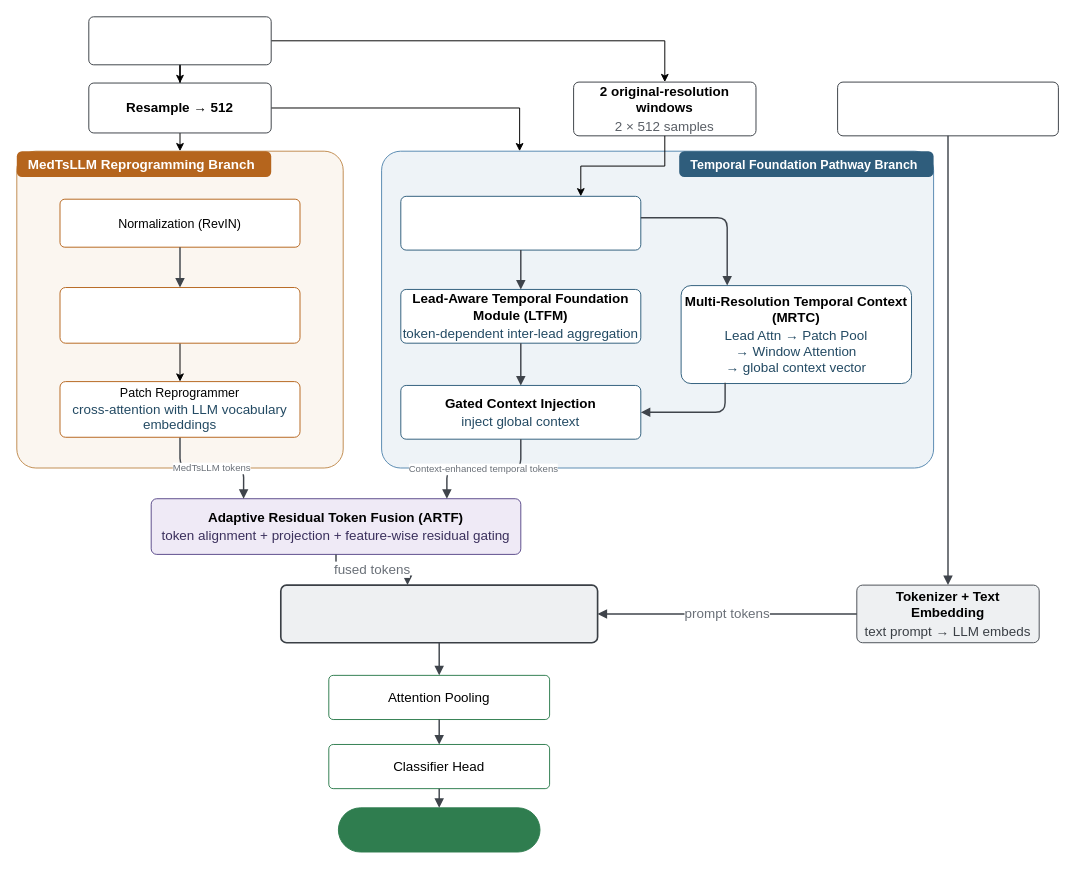
Some shapes in this 1075 by 869 pixel diagram are drawn without their labels. Each missing label, with the centre of its shape:
"12-lead ECG T = 1000 samples" goes at [179,40].
"Classification Output" goes at [438,829].
"Contextual Text Prompt dataset + patient + task descriptions" goes at [947,108].
"LLM Backbone — Llama-2-7B ❄️ frozen · optional LoRA" goes at [439,613].
"MOMENT-1-base Backbone ❄️ pretrained · frozen" goes at [520,222].
"Patch Embedder lead-wise patches → concatenate" goes at [179,315].
